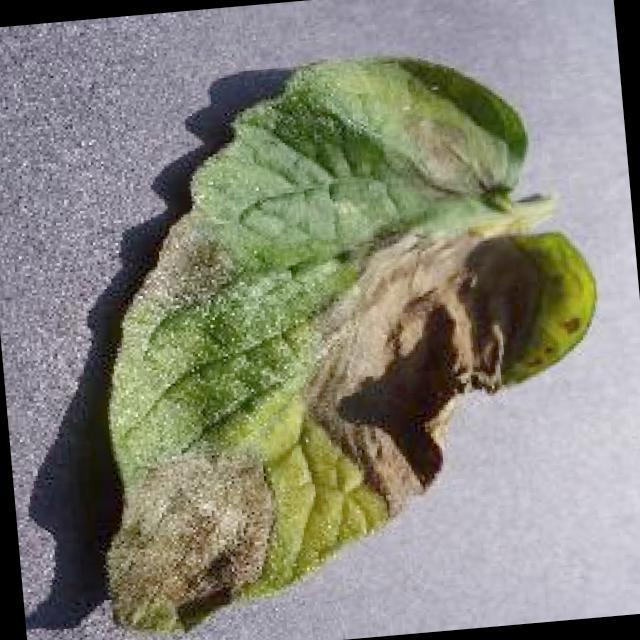Tomato late blight leaf: (57, 38, 625, 640)
